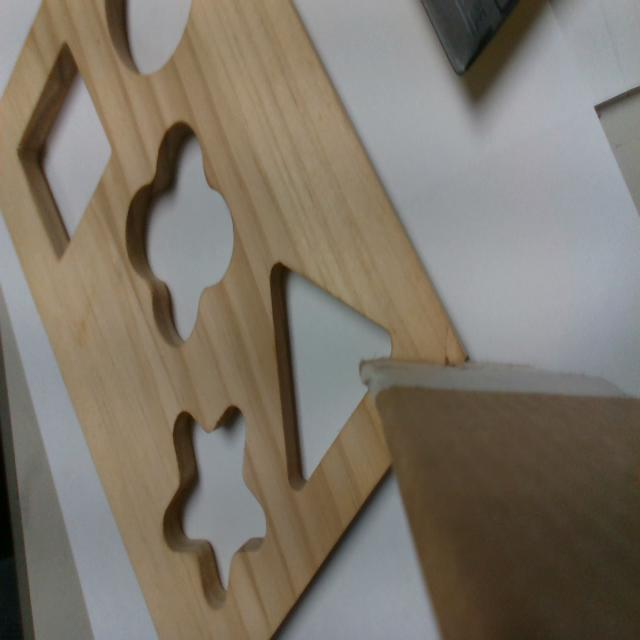circle: (103, 3, 191, 77)
flower: (122, 122, 234, 345)
square: (16, 36, 115, 263)
star: (162, 406, 266, 610)
triangle: (265, 258, 395, 494)
